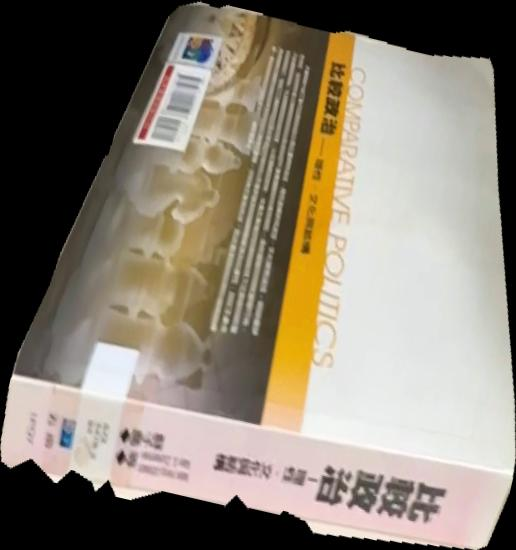flat: (1, 1, 516, 550)
